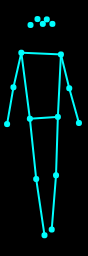mountain: (2, 12, 84, 242)
